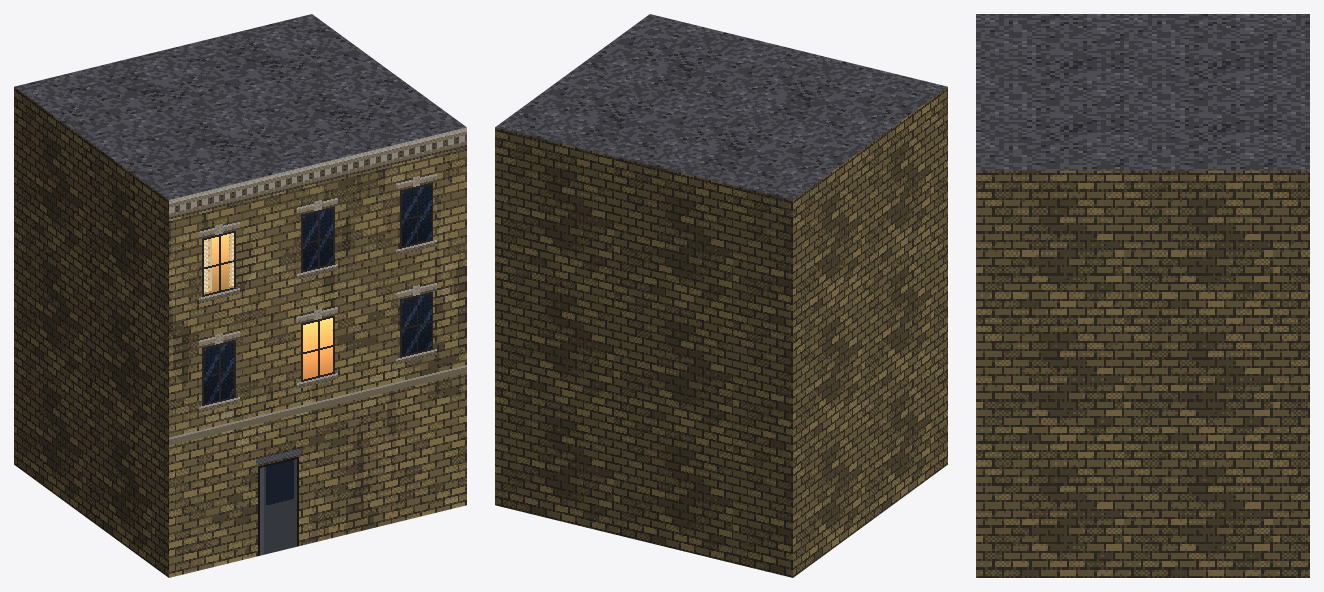
Rendered from Kulisse_4.glb.
3 renders of one model, left to right at view 1: azimuth 30°, elevation 25°; view 2: azimuth 150°, elevation 25°; view 3: azimuth 270°, elevation 25°, orthographic. The views are drawn at different scales.
Visible parts, largest first — view 1: Kulisse_4; view 2: Kulisse_4; view 3: Kulisse_4.
Boxes of the visible parts, x1,y1,x2,y2 form: Kulisse_4: (14, 14, 466, 577); Kulisse_4: (495, 14, 947, 577); Kulisse_4: (976, 14, 1309, 577).
Size of the model in its own units: 10 by 12.12 by 9.
3 materials, 3 textured.
